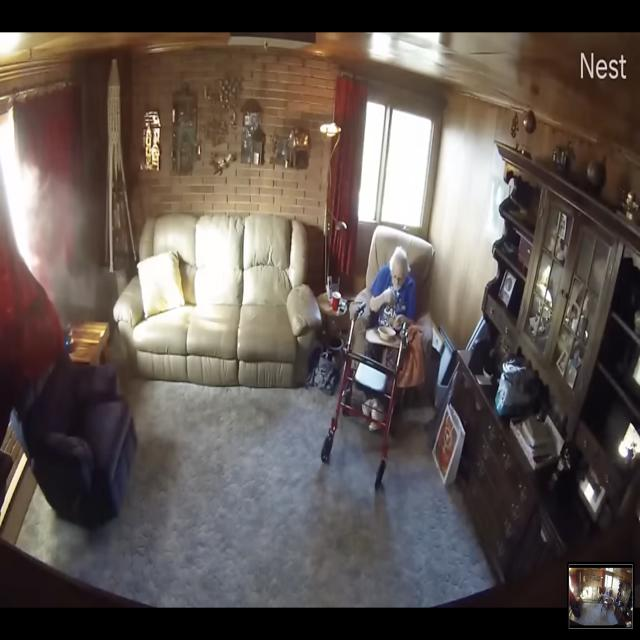Atencao: (10, 143, 116, 351)
